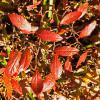Blueberry leaf: (4, 51, 24, 79), (8, 13, 32, 32), (30, 70, 45, 97), (35, 29, 63, 43), (18, 48, 33, 73), (58, 11, 83, 26), (50, 54, 63, 82), (78, 20, 97, 39), (54, 44, 80, 57), (10, 78, 24, 95)
